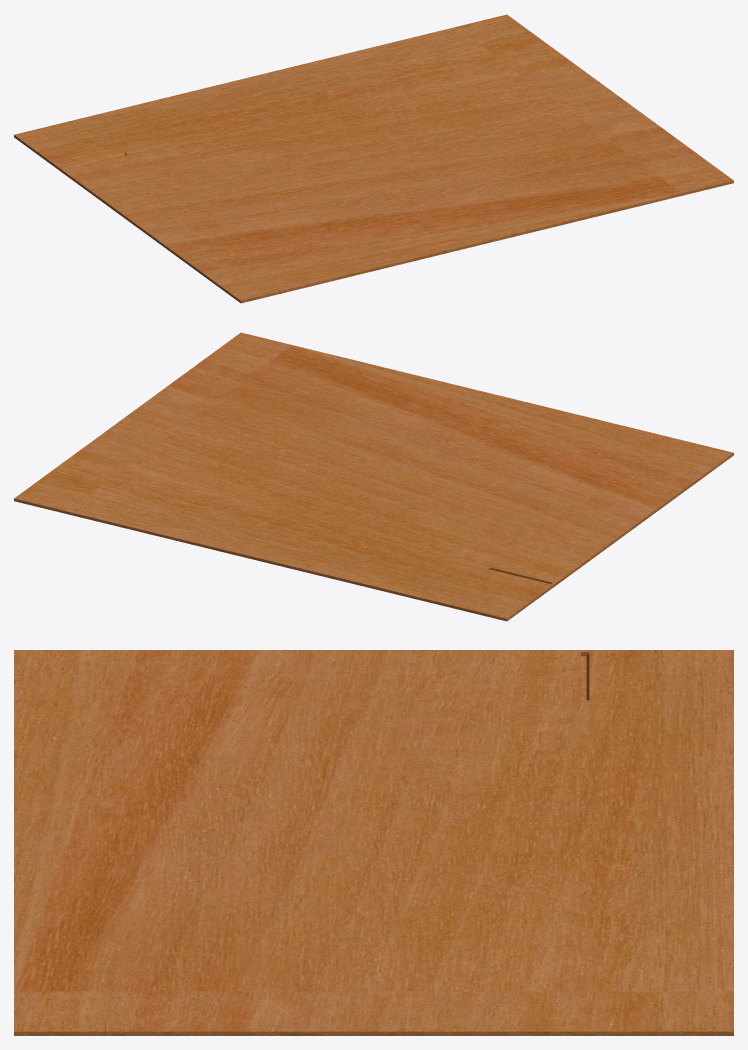
The model's file is original-12.obj.
3 views of the same model, one above another, from view 1: azimuth 30°, elevation 25°; view 2: azimuth 150°, elevation 25°; view 3: azimuth 270°, elevation 25° (orthographic). The views are drawn at different scales.
Visible parts, largest first — view 1: Component_16_1/Component_16/mesh14/mesh14-geometry#mesh14-geomet; view 2: Component_16_1/Component_16/mesh14/mesh14-geometry#mesh14-geomet; view 3: Component_16_1/Component_16/mesh14/mesh14-geometry#mesh14-geomet.
Part boxes in pixels (x1,y1,x2,y2): Component_16_1/Component_16/mesh14/mesh14-geometry#mesh14-geomet: (14,14,733,303); Component_16_1/Component_16/mesh14/mesh14-geometry#mesh14-geomet: (14,332,733,621); Component_16_1/Component_16/mesh14/mesh14-geometry#mesh14-geomet: (14,650,733,1035).
Bounding box in the file's own units: 1.52 × 0.0077 × 1.21.
